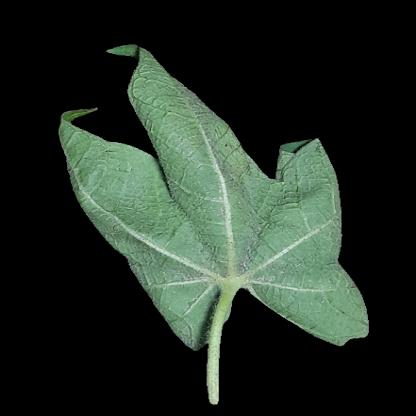curl_stage2: (139, 160, 235, 282), (240, 179, 337, 285), (95, 150, 137, 220), (168, 285, 226, 333), (288, 288, 364, 324), (161, 115, 221, 155), (137, 78, 185, 110), (278, 149, 328, 177)
